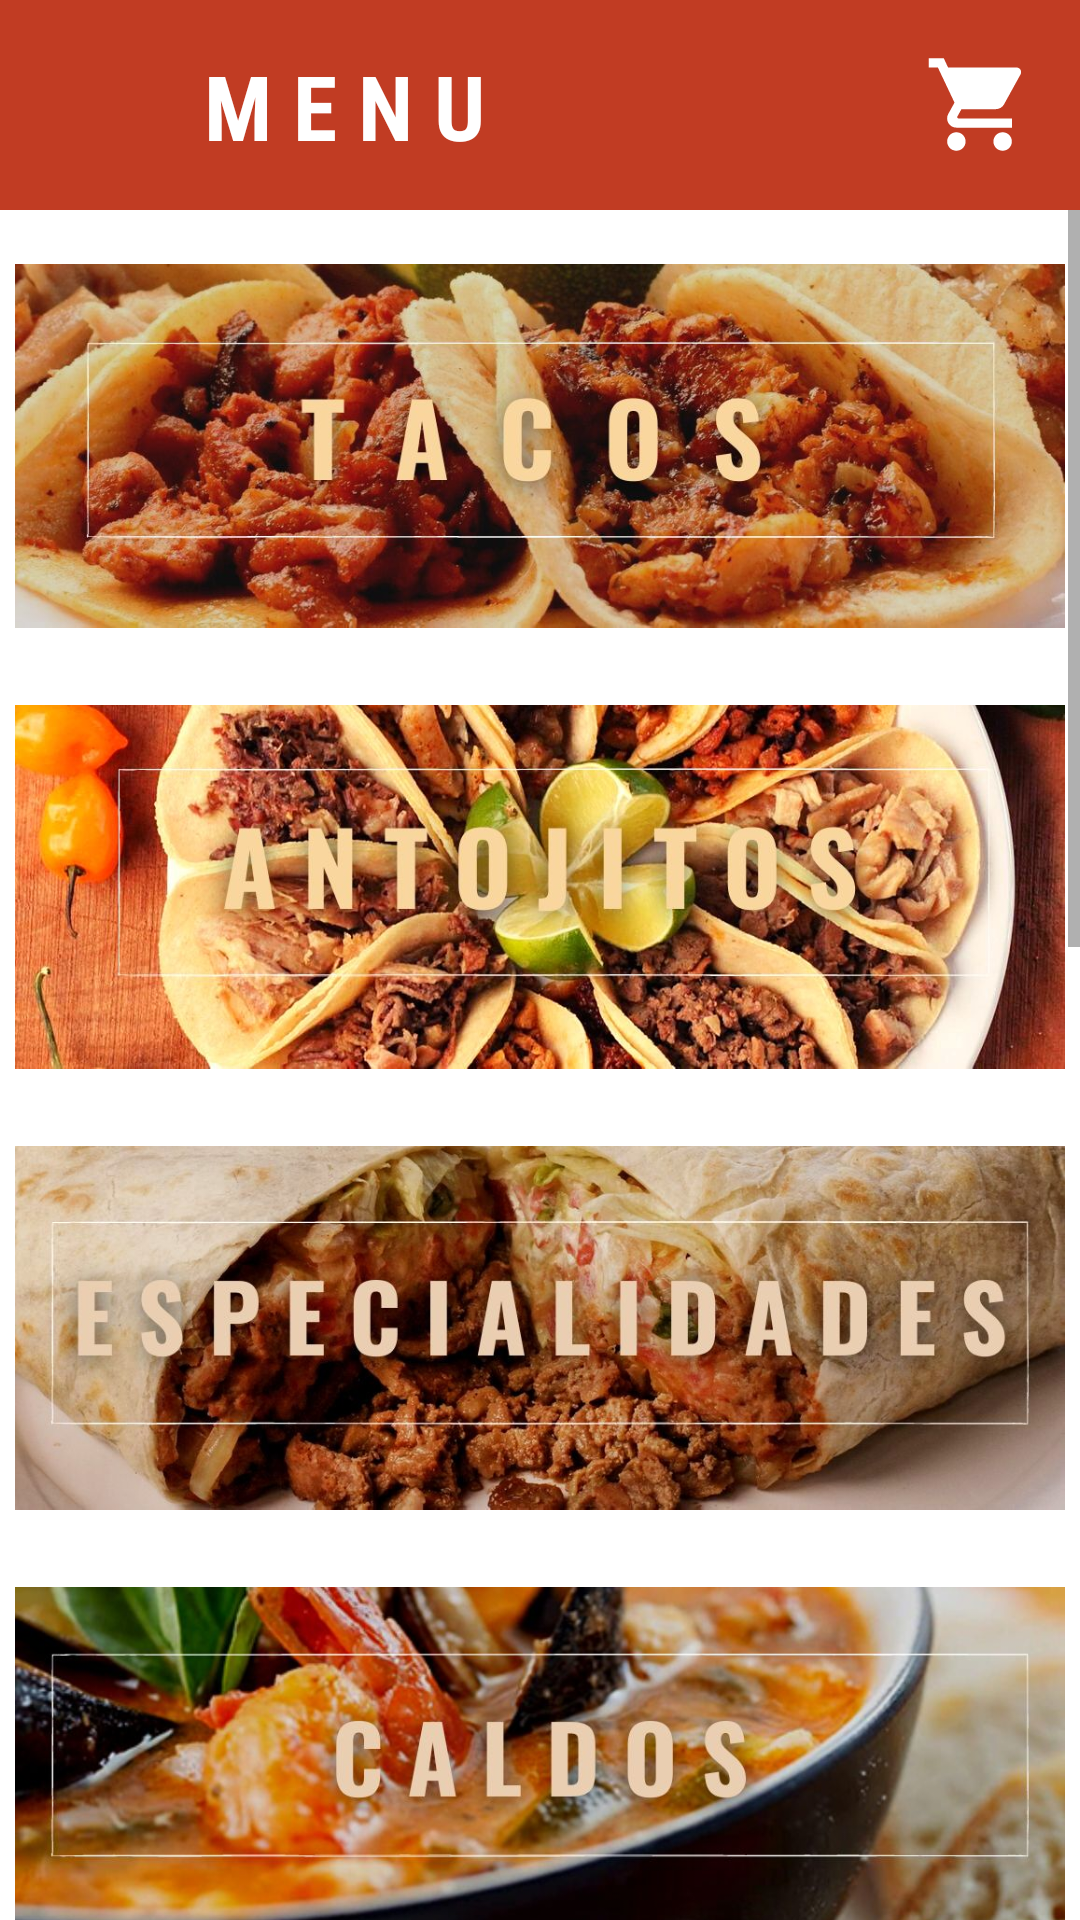

Point at icon controls on the screen. Image size 1080 × 1920, points as (x,y).
carro: (974,104)
